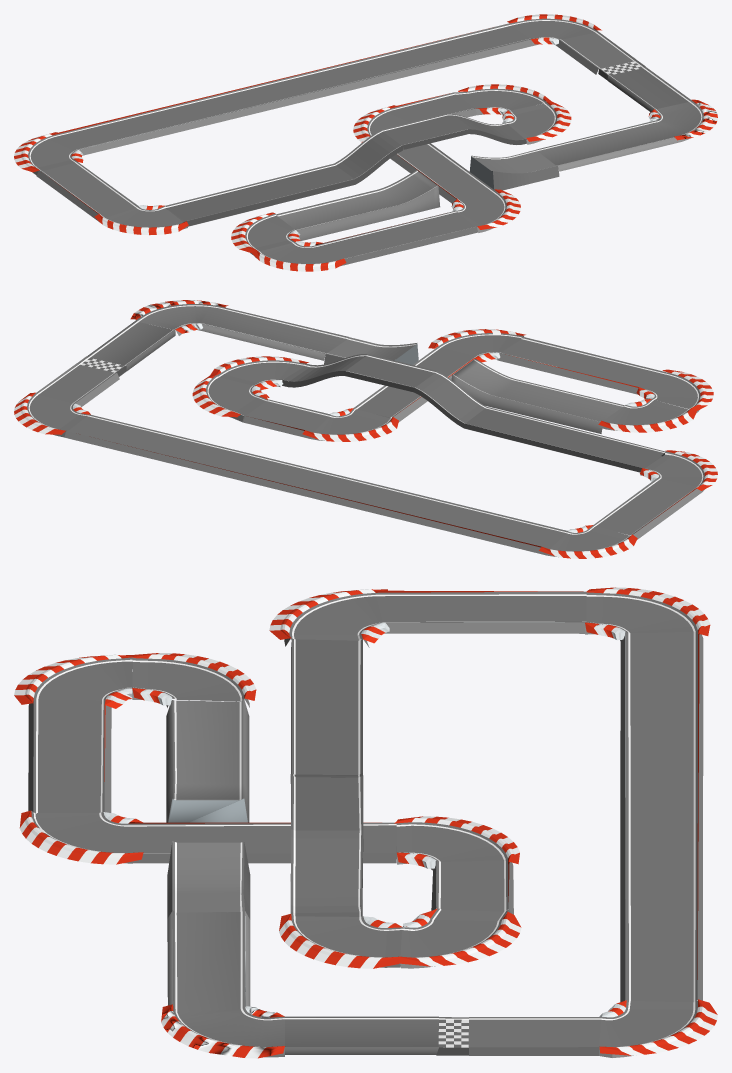
The model's file is track.glb.
3 views of the same model, one above another, from view 1: azimuth 30°, elevation 25°; view 2: azimuth 150°, elevation 25°; view 3: azimuth 270°, elevation 25° (orthographic). The views are drawn at different scales.
Visible parts, largest first — view 1: TRII9_Material.012_0; view 2: TRII9_Material.012_0; view 3: TRII9_Material.012_0.
Boxes of the visible parts, left/top/right/bottom form: TRII9_Material.012_0: left=14, top=14, right=717, bottom=271; TRII9_Material.012_0: left=14, top=300, right=717, bottom=558; TRII9_Material.012_0: left=14, top=587, right=717, bottom=1058.
Size of the model in its own units: 8.22 by 0.4625 by 5.19.
1 material, 1 textured.
